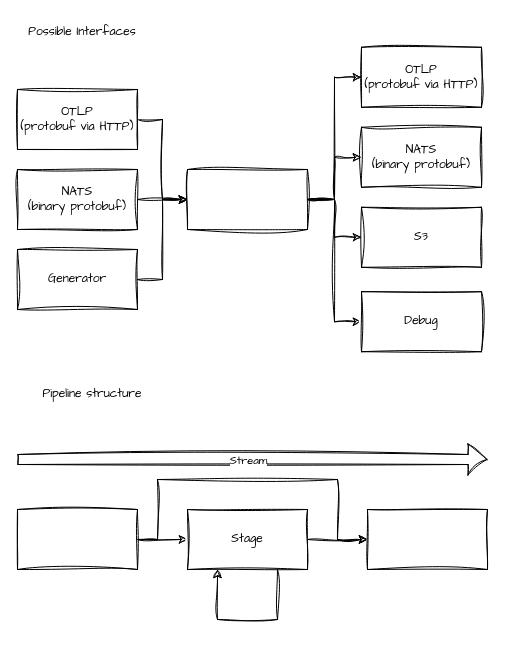
Some shapes in this 505 by 645 pixel diagram are drawn without their labels. Here are the shapes that lost their labels. From the top down, the centre of each, then its label:
At pixel 247 199: "Service".
At pixel 77 539: "Source".
At pixel 427 539: "Sink".
